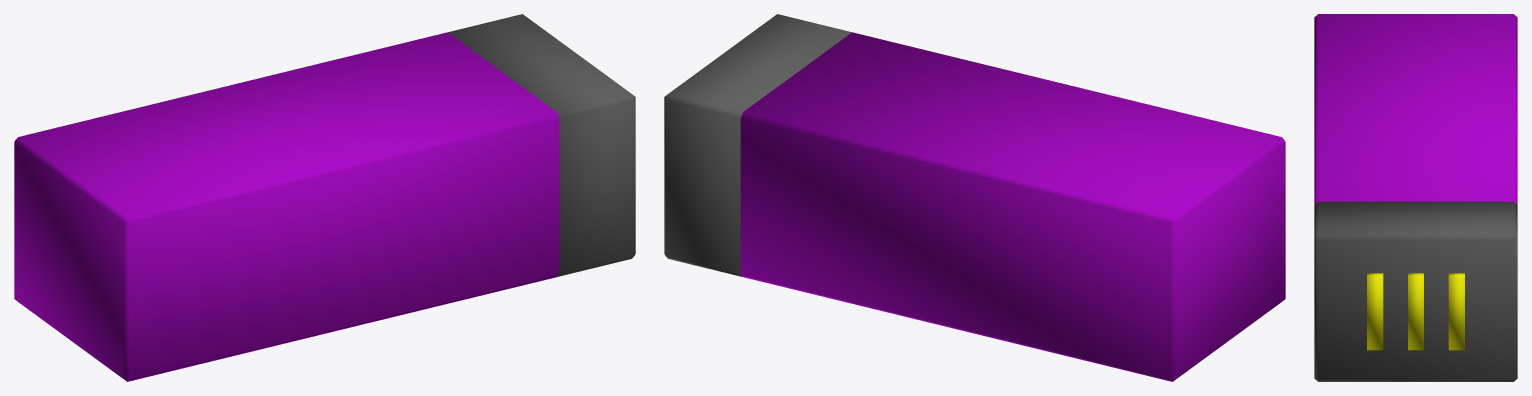
Rendered from battery_purple.dae.
3 views of the same model, side by side, from view 1: azimuth 30°, elevation 25°; view 2: azimuth 150°, elevation 25°; view 3: azimuth 270°, elevation 25° (orthographic). The views are drawn at different scales.
Parts seen in each view (by area): view 1: battery_cap; view 2: battery_cap; view 3: battery_cap.
Boxes of the visible parts, bbox=[...] form: battery_cap: bbox=[14, 14, 635, 381]; battery_cap: bbox=[664, 14, 1285, 381]; battery_cap: bbox=[1314, 14, 1517, 381].
Size of the model in its own units: 0.132 by 0.05 by 0.04.
